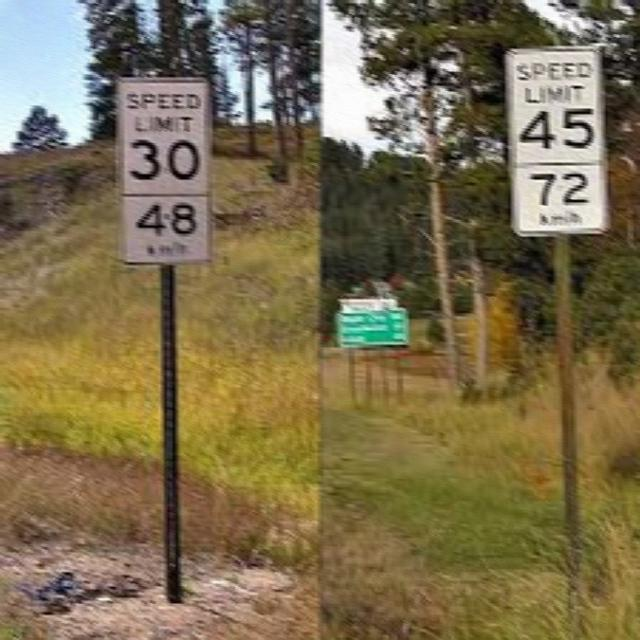speedLimit30: (118, 83, 212, 264)
speedLimit45: (502, 46, 612, 236)
